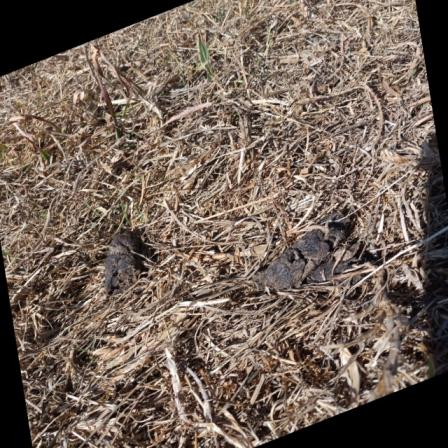dog-poop: (247, 204, 374, 299), (96, 227, 144, 286)
